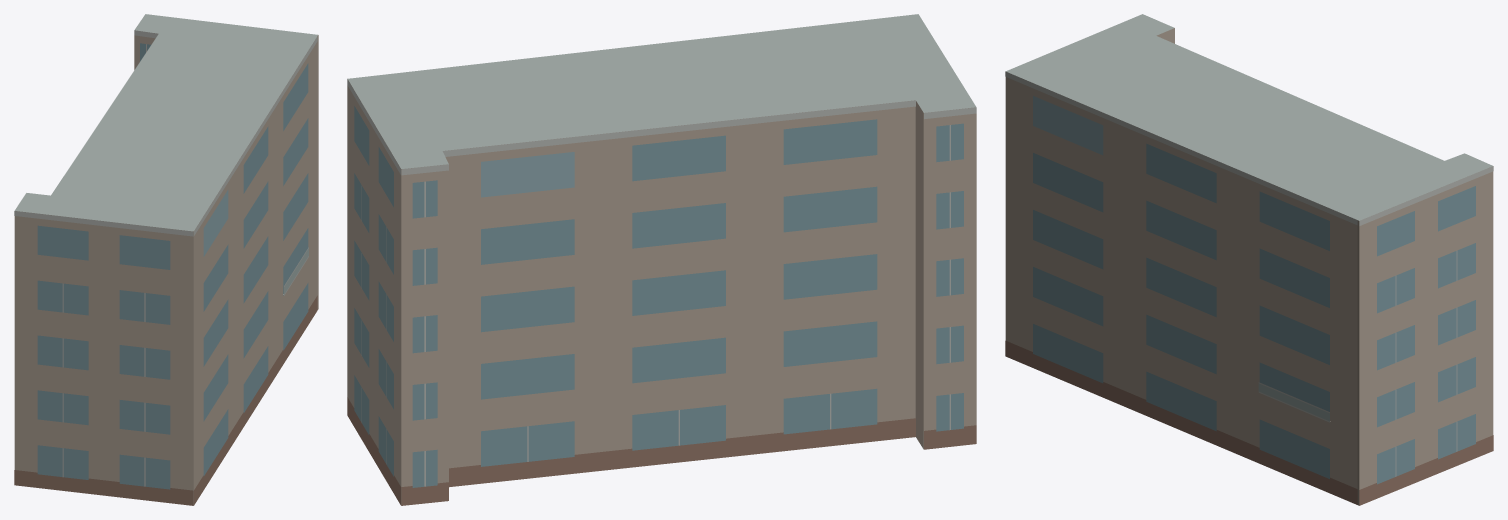
Rendered from survey-upis-32594287.glb.
3 views of the same model, side by side, from view 1: azimuth 30°, elevation 25°; view 2: azimuth 150°, elevation 25°; view 3: azimuth 270°, elevation 25° (orthographic). The views are drawn at different scales.
Parts seen in each view (by area): view 1: survey-upis-32594287.tmp; view 2: survey-upis-32594287.tmp; view 3: survey-upis-32594287.tmp.
Boxes of the visible parts, x1,y1,x2,y2 form: survey-upis-32594287.tmp: (14,14,318,505); survey-upis-32594287.tmp: (347,14,976,505); survey-upis-32594287.tmp: (1005,14,1493,505).
Size of the model in its own units: 20.41 by 13.1 by 20.33.
